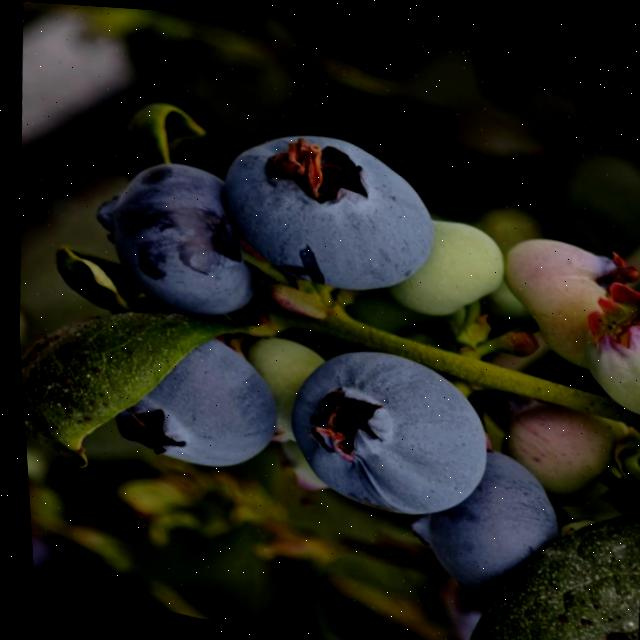RipeBlueBerry: (200, 103, 456, 312), (265, 324, 504, 533), (73, 140, 274, 333)
